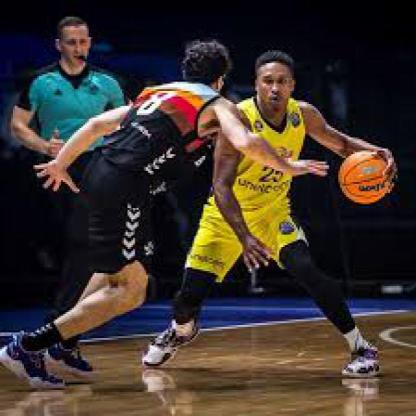basketball: (336, 150, 392, 204)
